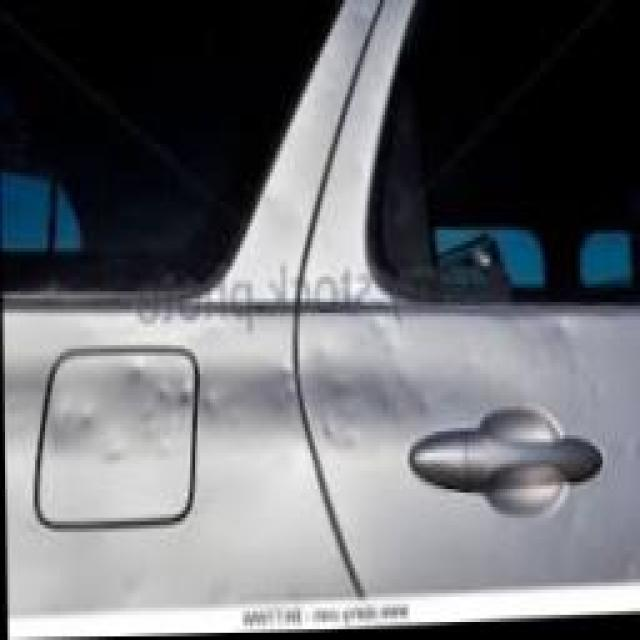Door: (298, 316, 640, 543)
Fender: (2, 320, 296, 579)
